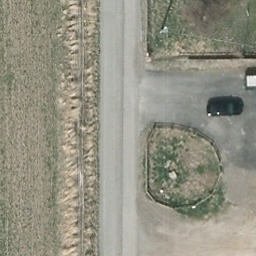car: (207, 100, 243, 118)
